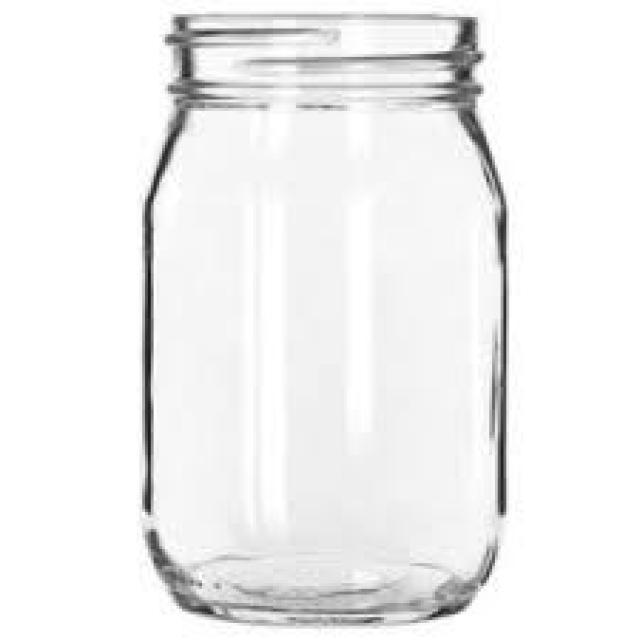Glass: (137, 2, 509, 628)
